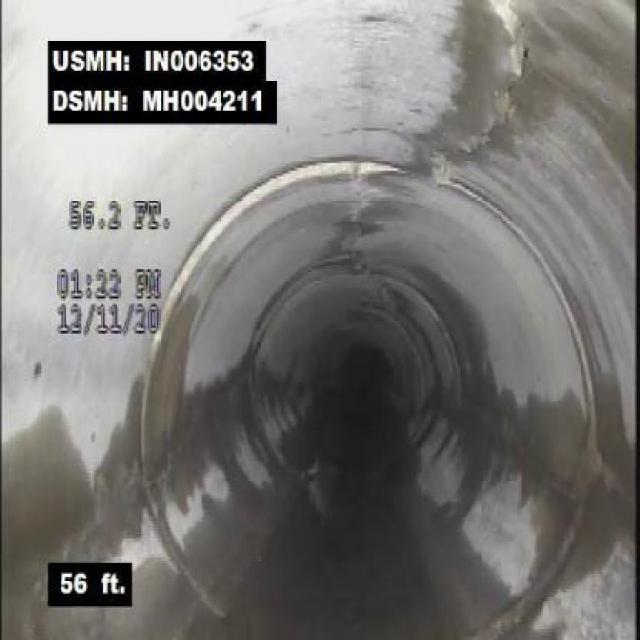Buckling: (452, 2, 537, 148)
Crack: (88, 456, 143, 518)
Joint offset: (194, 157, 348, 252)
